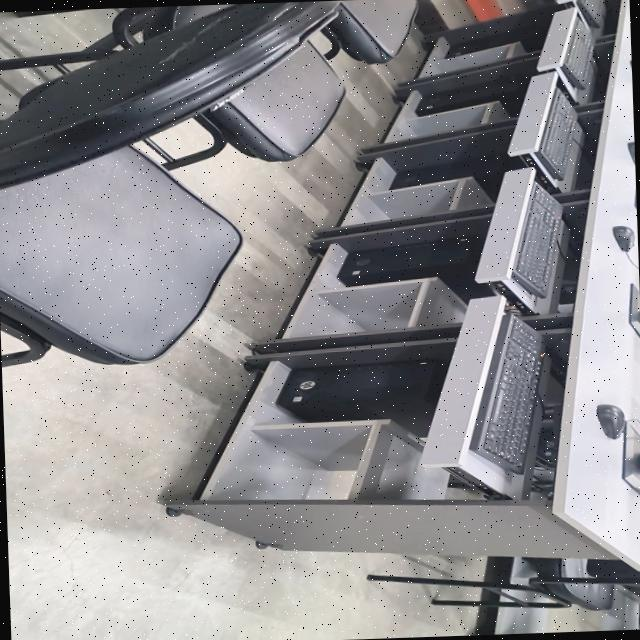Chair: (0, 0, 338, 365), (156, 40, 345, 169), (367, 556, 640, 610), (323, 0, 416, 63)
Cpu: (357, 126, 530, 199), (277, 359, 445, 434), (337, 235, 490, 301), (424, 3, 572, 55), (416, 76, 528, 115)
Keyboard: (470, 312, 542, 473), (511, 178, 561, 297), (535, 87, 577, 180), (560, 15, 593, 88), (556, 0, 605, 27)
Mouse: (596, 403, 626, 437), (613, 225, 634, 251), (628, 140, 635, 162)
